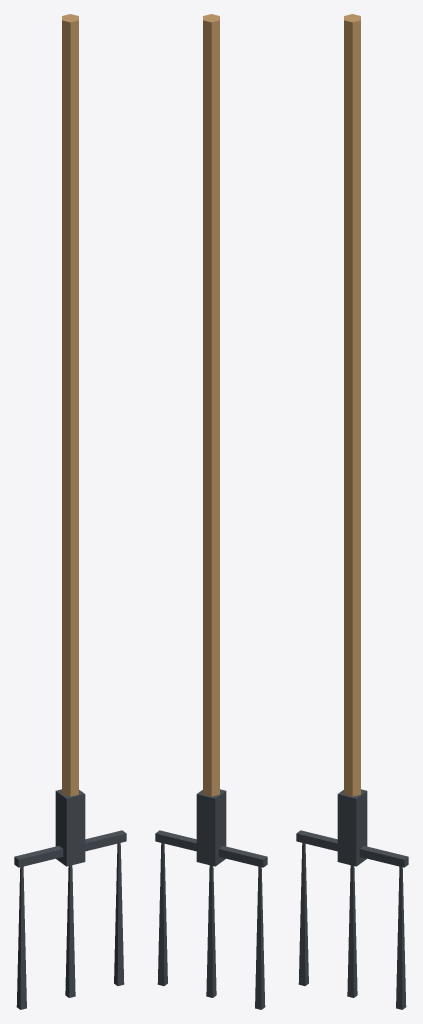
The model's file is GT_Pitchfork_01.glb.
3 views of the same model, side by side, from view 1: azimuth 30°, elevation 25°; view 2: azimuth 150°, elevation 25°; view 3: azimuth 330°, elevation 25° (orthographic).
Visible parts, largest first — view 1: GT_Pitchfork_01; view 2: GT_Pitchfork_01; view 3: GT_Pitchfork_01.
Boxes of the visible parts, x1,y1,x2,y2 form: GT_Pitchfork_01: (14, 14, 126, 1009); GT_Pitchfork_01: (155, 14, 267, 1009); GT_Pitchfork_01: (296, 14, 408, 1009).
Size of the model in its own units: 0.2 by 1.73 by 0.035.
1 material, 1 textured.
